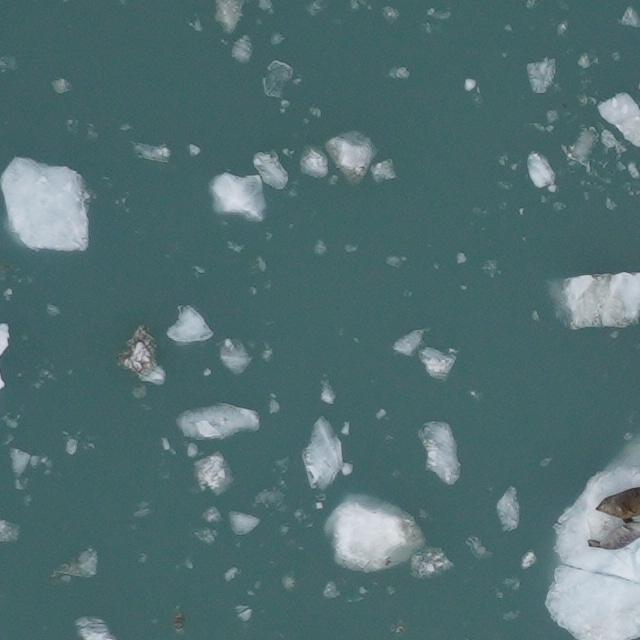seal: (586, 520, 640, 553)
